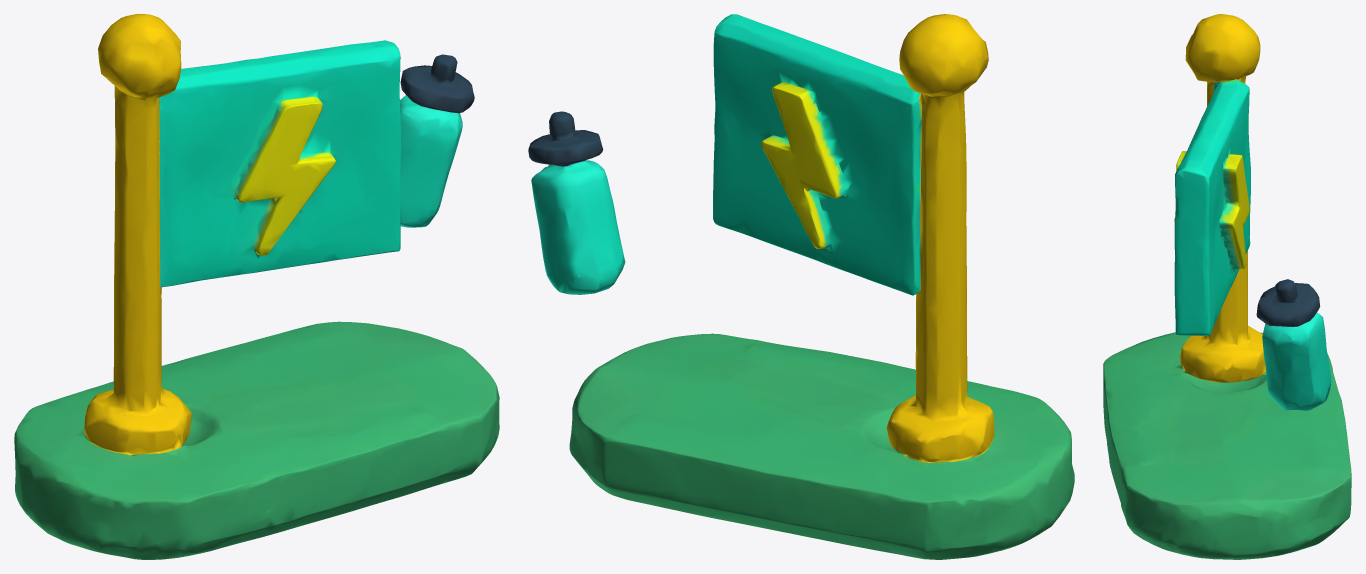
File: flag.glb
3 views of the same model, side by side, from view 1: azimuth 30°, elevation 25°; view 2: azimuth 150°, elevation 25°; view 3: azimuth 270°, elevation 25° (orthographic). The views are drawn at different scales.
Visible parts, largest first — view 1: tripo_node_ede416ab-1cff-458a-bb15-ecebc10a902c; view 2: tripo_node_ede416ab-1cff-458a-bb15-ecebc10a902c; view 3: tripo_node_ede416ab-1cff-458a-bb15-ecebc10a902c.
Boxes of the visible parts, <box> form: tripo_node_ede416ab-1cff-458a-bb15-ecebc10a902c: <box>14,14,499,559</box>; tripo_node_ede416ab-1cff-458a-bb15-ecebc10a902c: <box>528,14,1074,559</box>; tripo_node_ede416ab-1cff-458a-bb15-ecebc10a902c: <box>1103,14,1351,559</box>.
Size of the model in its own units: 1 by 0.9952 by 0.5453.
Materials: 1 (1 with a texture image).
